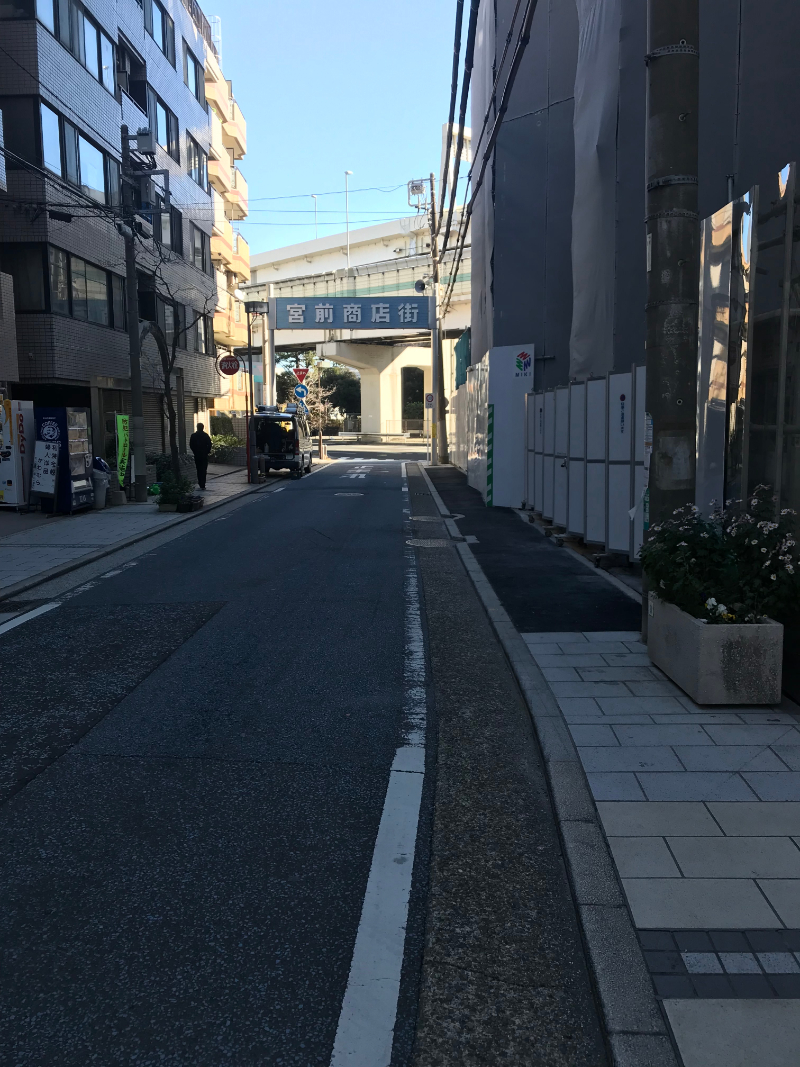STOP: (290, 368, 312, 384)
